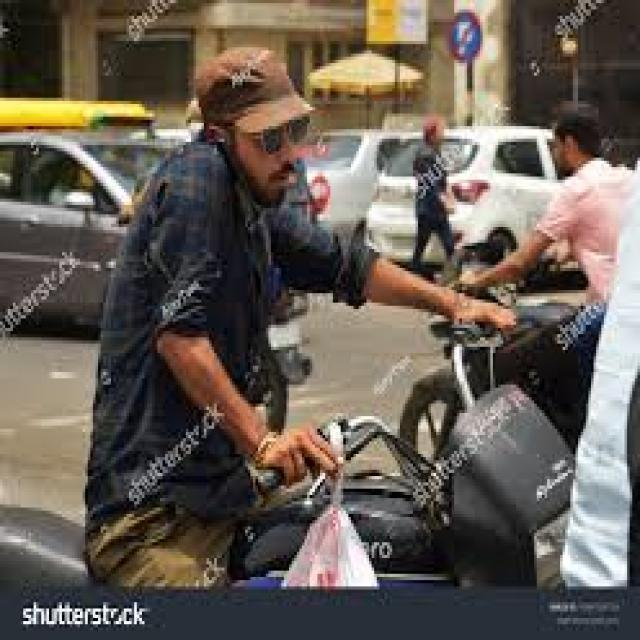USING_MOBILE: (198, 44, 304, 212)
